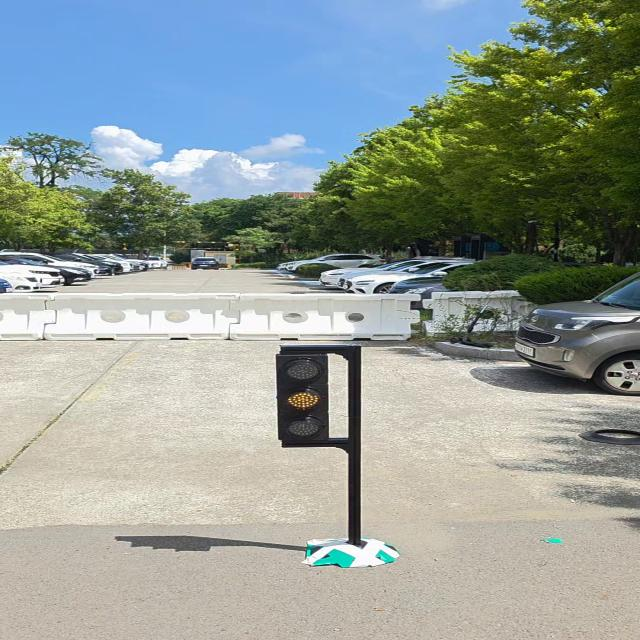yellow: (275, 354, 330, 441)
